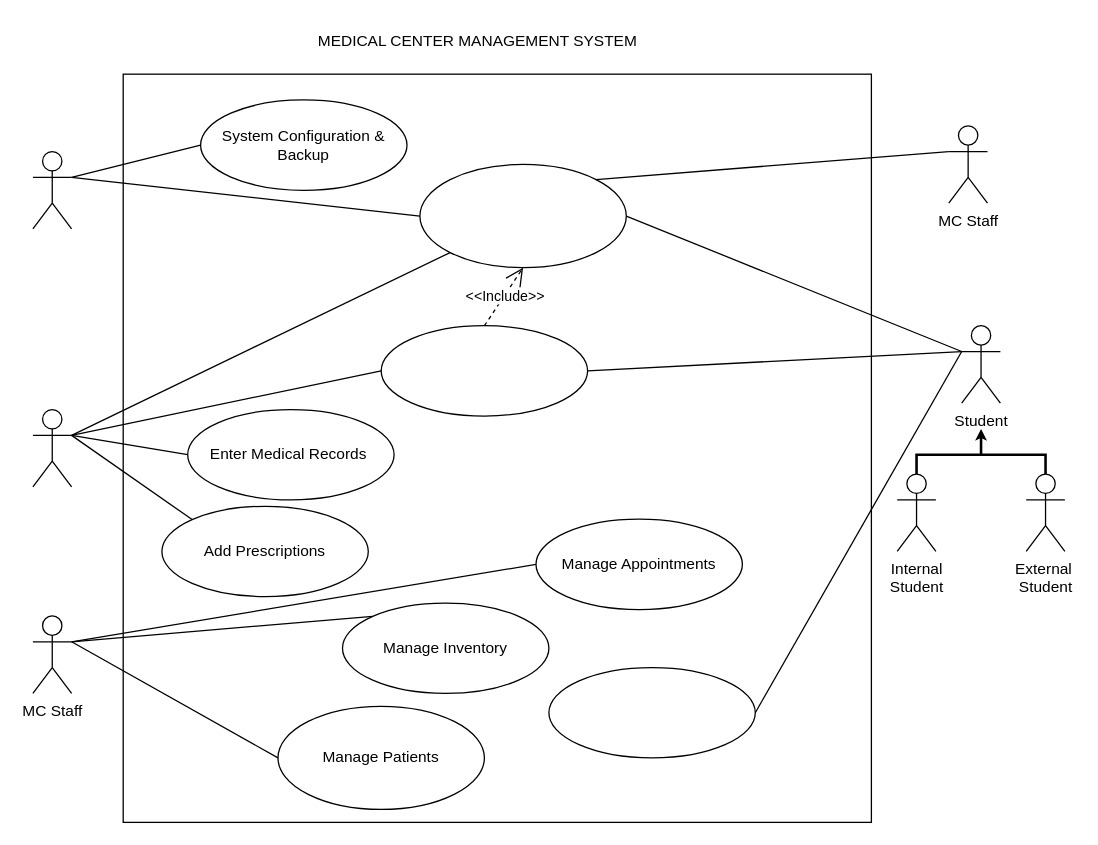
Image size: 1098x845. Some labels were removed from this diagram. The shapes that lost their labels are listed below. From the top down, each one's box as (x1, y1, x2, y2) in pixels, then its label:
(32, 150, 72, 229): Admin
(419, 163, 626, 268): Login System
(380, 324, 588, 416): View Reports
(32, 408, 72, 487): Doctor
(548, 666, 755, 758): Make Appointment
